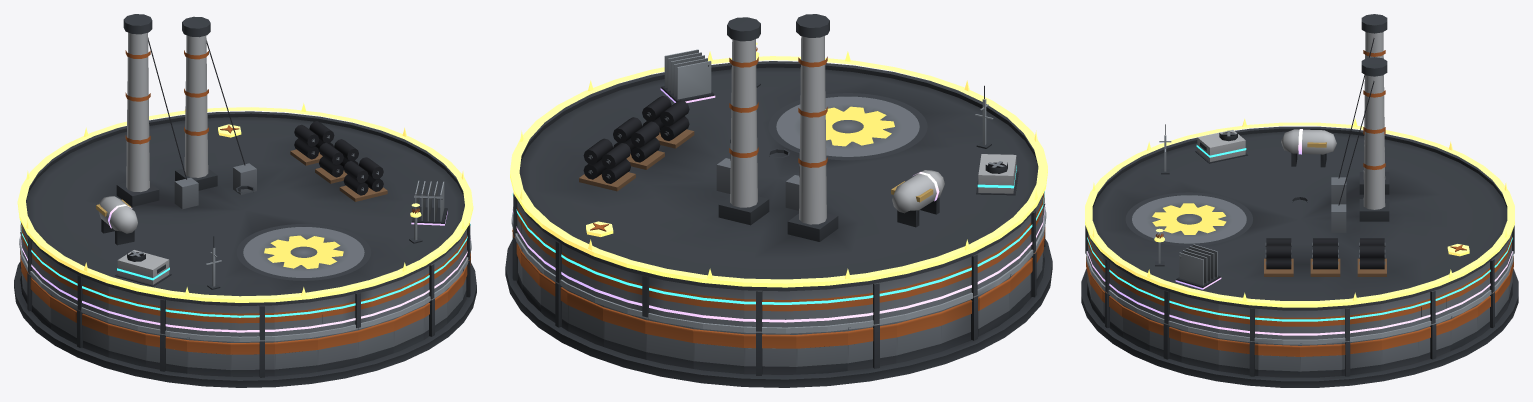
The model's file is carbon_works_m_far.glb.
3 renders of one model, left to right at view 1: azimuth 30°, elevation 25°; view 2: azimuth 150°, elevation 25°; view 3: azimuth 270°, elevation 25°, orthographic. The views are drawn at different scales.
Visible parts, largest first — view 1: Roof, Base, L5, L4, L2, L3; view 2: Roof, Base, L5, L4, L2, L3; view 3: Roof, Base, L5, L4, L2, L3.
Boxes of the visible parts, left/top/right/bottom form: Roof: left=20, top=14, right=470, bottom=340; Base: left=14, top=232, right=476, bottom=387; L5: left=17, top=103, right=473, bottom=302; L4: left=20, top=180, right=470, bottom=332; L2: left=19, top=233, right=471, bottom=341; L3: left=20, top=185, right=470, bottom=317; Roof: left=513, top=14, right=1044, bottom=331; Base: left=505, top=203, right=1052, bottom=387; L5: left=510, top=42, right=1047, bottom=287; L4: left=512, top=49, right=1045, bottom=322; L2: left=511, top=85, right=1046, bottom=333; L3: left=512, top=148, right=1044, bottom=304; Roof: left=1085, top=14, right=1514, bottom=341; Base: left=1081, top=254, right=1518, bottom=387; L5: left=1085, top=118, right=1514, bottom=307; L4: left=1087, top=129, right=1512, bottom=335; L2: left=1086, top=124, right=1513, bottom=344; L3: left=1087, top=130, right=1512, bottom=321.
Bounding box in the file's own units: 14.75 × 9.1 × 14.75.
